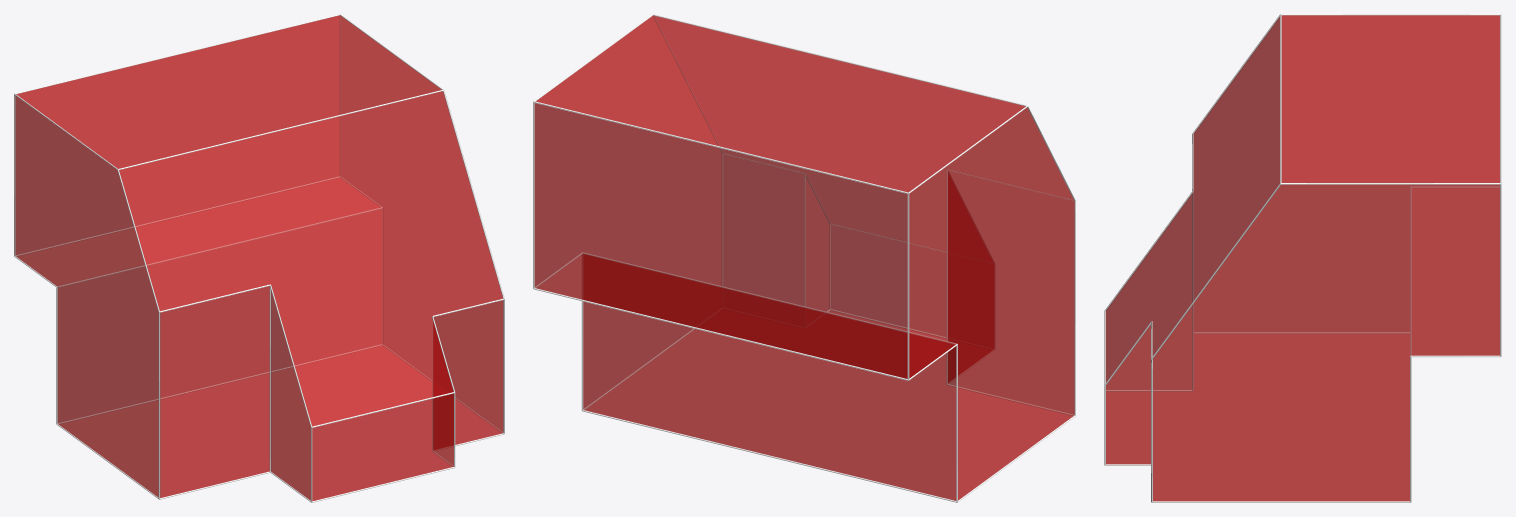
3 views of the same model, side by side, from view 1: azimuth 30°, elevation 25°; view 2: azimuth 150°, elevation 25°; view 3: azimuth 270°, elevation 25° (orthographic). The views are drawn at different scales.
Visible parts, largest first — view 1: object 34, Pipe (×7); view 2: object 34, Pipe (×5); view 3: object 34, Pipe (×3).
Part boxes in pixels (x1,y1,x2,y2): object 34: (15, 15, 503, 501); Pipe (×7): (15, 14, 443, 499); object 34: (534, 15, 1074, 500); Pipe (×5): (533, 14, 1026, 502); object 34: (1105, 15, 1499, 501); Pipe (×3): (1151, 183, 1500, 502).
Bounding box in the file's own units: 45.74 × 40.2 × 45.25.
